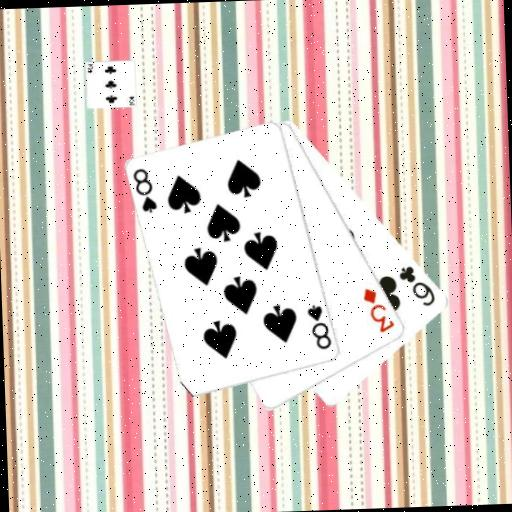3D: (360, 283, 397, 335)
6C: (395, 262, 437, 309)
8S: (304, 301, 333, 352), (129, 164, 158, 215)
